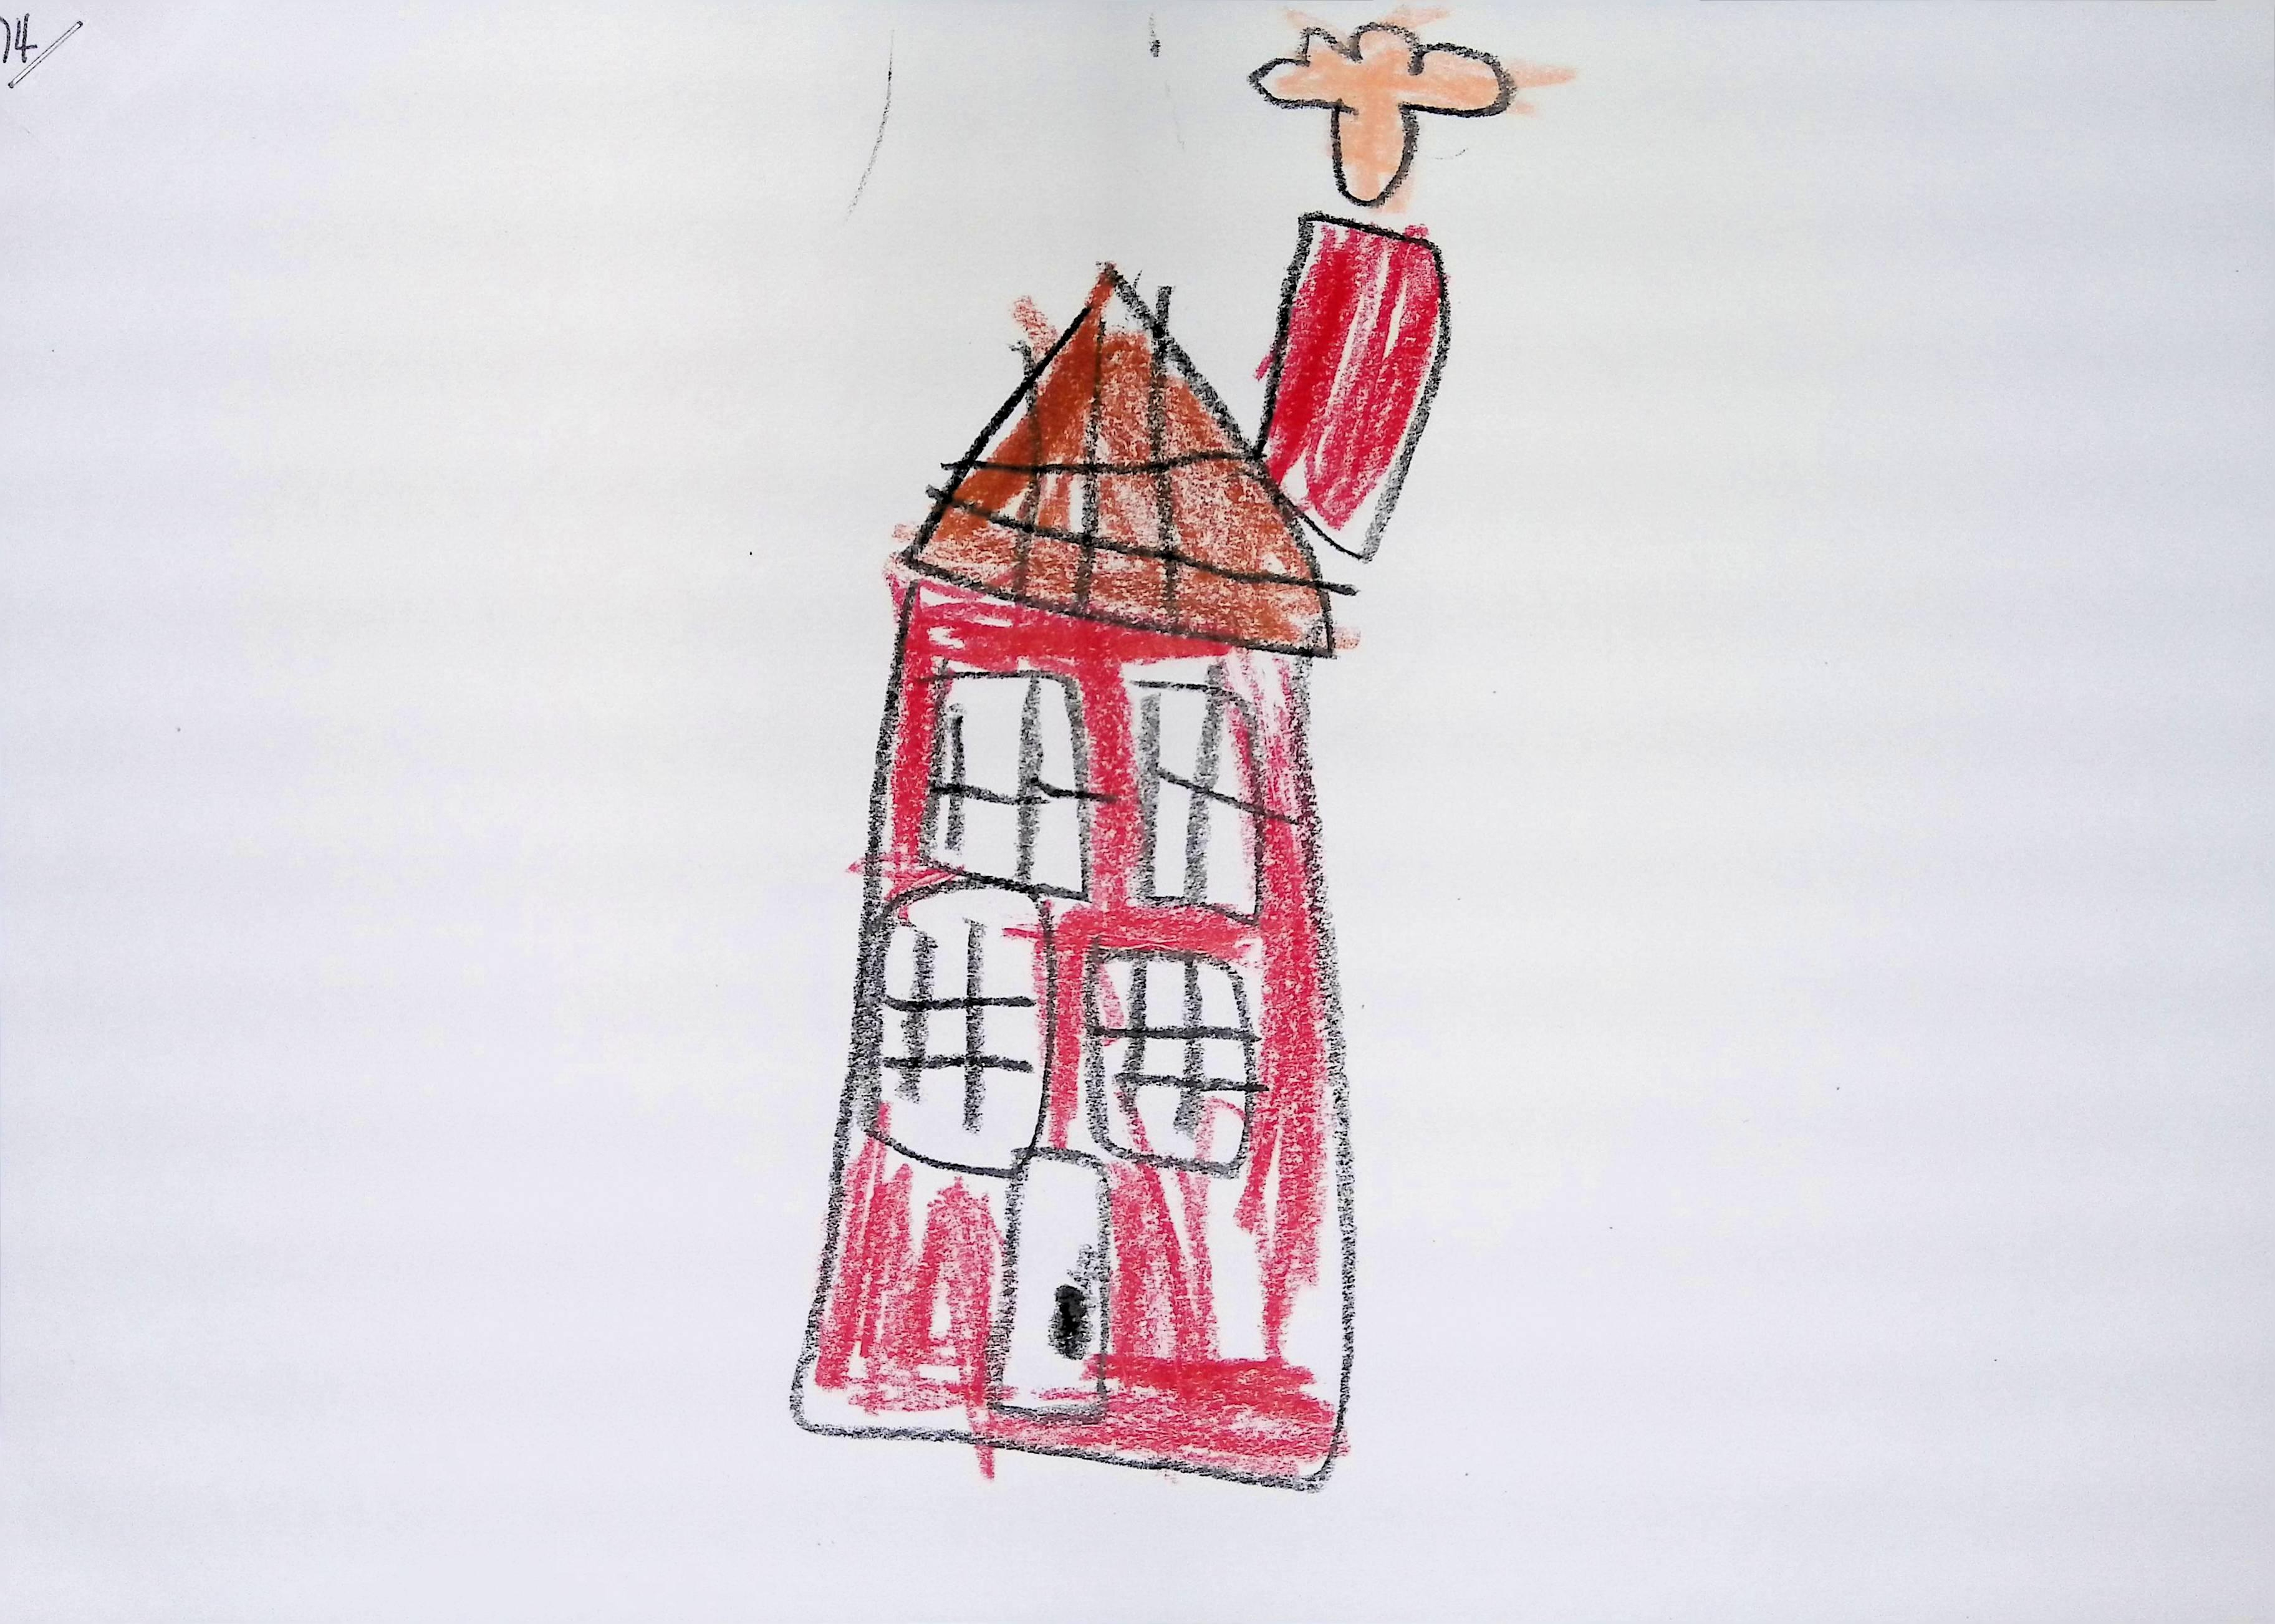chimney: (1260, 211, 1449, 555)
door: (989, 1149, 1109, 1420)
house: (792, 211, 1449, 1489)
roof: (903, 262, 1333, 652)
wall: (794, 564, 1349, 1483)
window: (871, 886, 1045, 1172), (1087, 951, 1261, 1178), (924, 671, 1087, 895), (1133, 680, 1260, 916)
